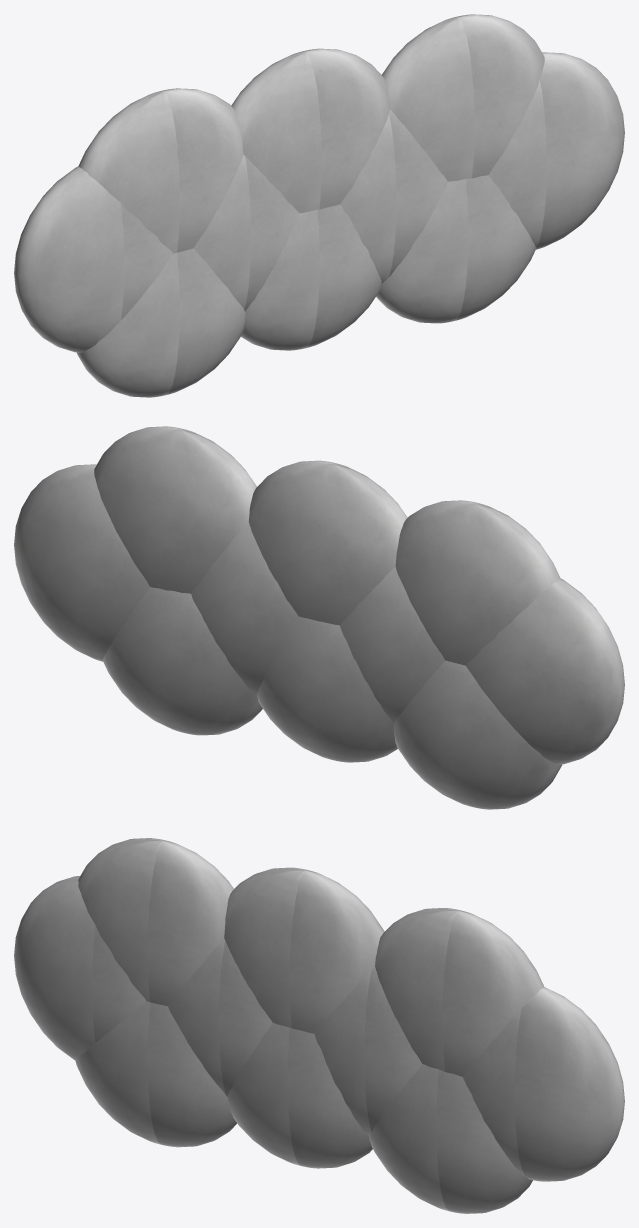
Rendered from fog.obj.
3 renders of one model, top to bottom at view 1: azimuth 30°, elevation 25°; view 2: azimuth 150°, elevation 25°; view 3: azimuth 330°, elevation 25°, orthographic.
Parts seen in each view (by area): view 1: 球.005; view 2: 球.005; view 3: 球.005.
Boxes of the visible parts, x1=… form: 球.005: x1=14, y1=14, x2=624, y2=397; 球.005: x1=14, y1=426, x2=624, y2=809; 球.005: x1=14, y1=838, x2=624, y2=1213.
Bounding box in the file's own units: 13.45 × 6.51 × 1.23.
1 material, 1 textured.
